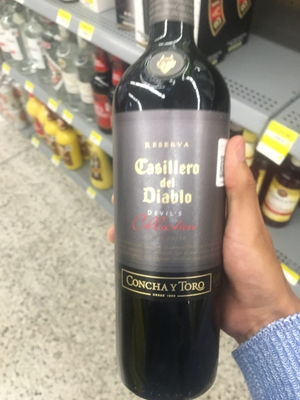casillero del diablo devils collection rojo: (110, 3, 237, 400)
